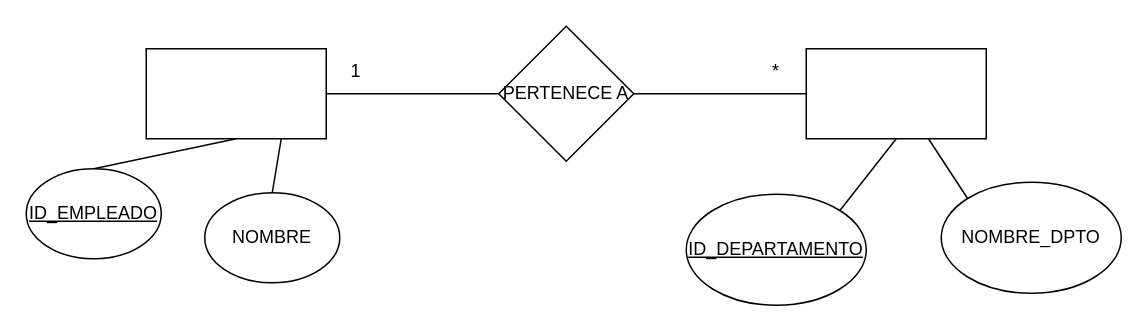
The diagram is 1148 pixels wide and 332 high, and some of its shapes have lost their labels. The shapes that lost their labels are listed below. From the top down, each one's centre as x and y in pixels, then its label:
At point (235, 93): "EMPLEADO".
At point (895, 93): "DEPARTAMENTO".
